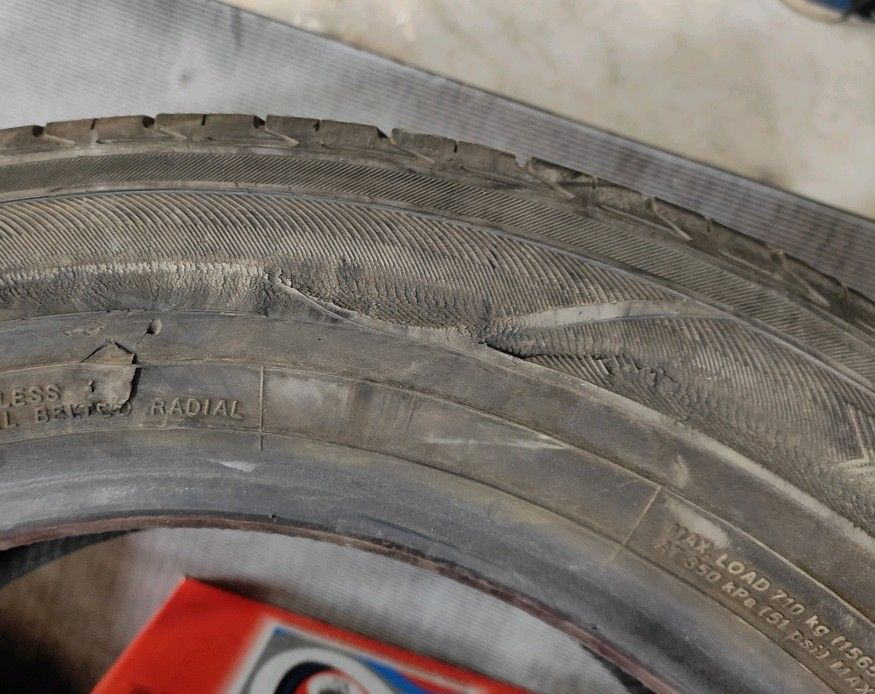cut: (474, 335, 659, 399), (79, 337, 143, 414)
